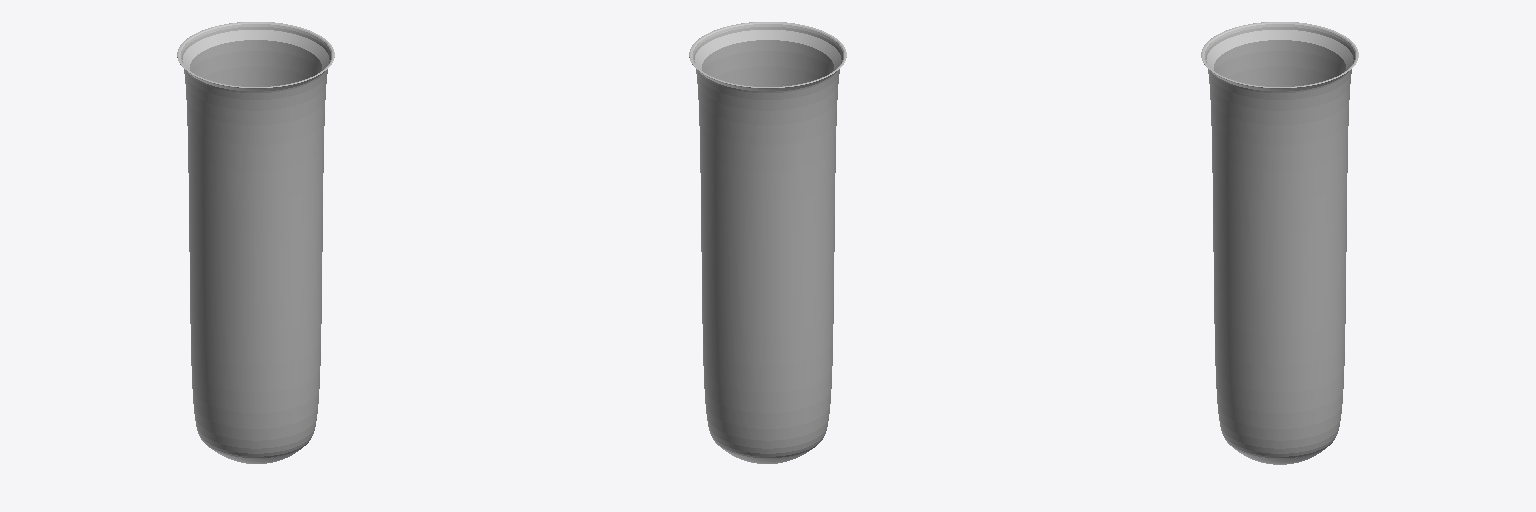
The picture shows the model from 3 angles: view 1: azimuth 30°, elevation 25°; view 2: azimuth 150°, elevation 25°; view 3: azimuth 270°, elevation 25°; orthographic projection.
Parts seen in each view (by area): view 1: Test_tube.002_Circle.002; view 2: Test_tube.002_Circle.002; view 3: Test_tube.002_Circle.002.
Part boxes in pixels (x1,y1,x2,y2): Test_tube.002_Circle.002: (177, 22, 334, 463); Test_tube.002_Circle.002: (689, 22, 846, 463); Test_tube.002_Circle.002: (1201, 22, 1358, 464).
Size of the model in its own units: 0.059 by 0.1662 by 0.059.